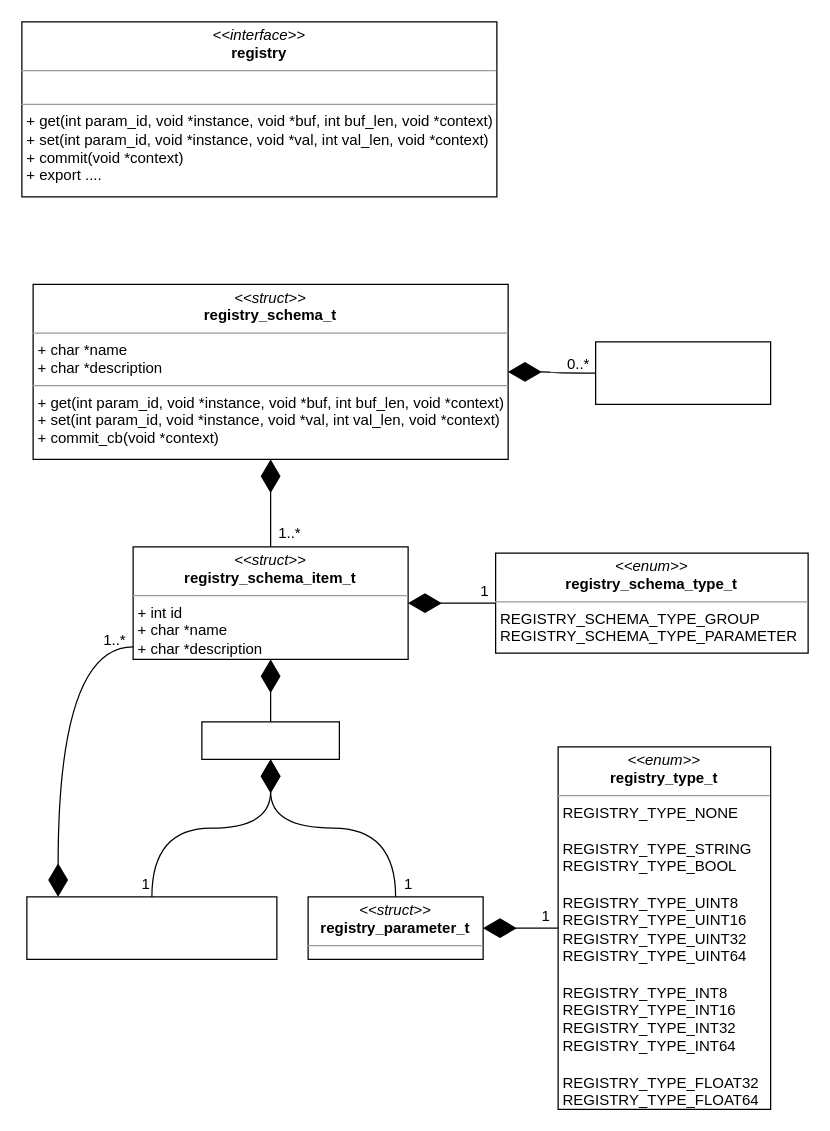
The diagram is 830 pixels wide and 1131 high, and some of its shapes have lost their labels. The shapes that lost their labels are listed below. From the top down, each one's centre as x and y in pixels, then its label:
At point (682, 372): "<<struct>> void* instance".
At point (270, 740): "<<union>>".
At point (151, 927): "<<struct>> registry_group_t".
